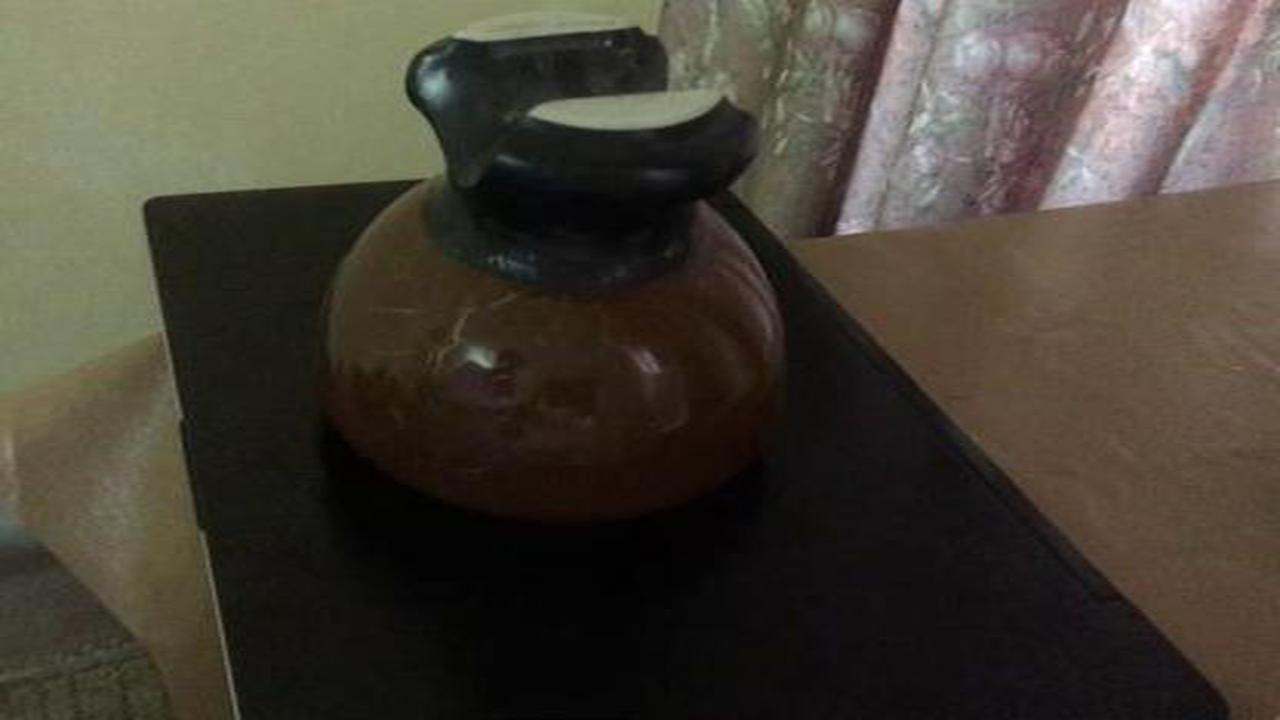insulator_pin: (305, 16, 825, 549)
